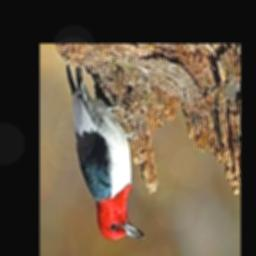Woodpecker: (65, 63, 144, 241)
